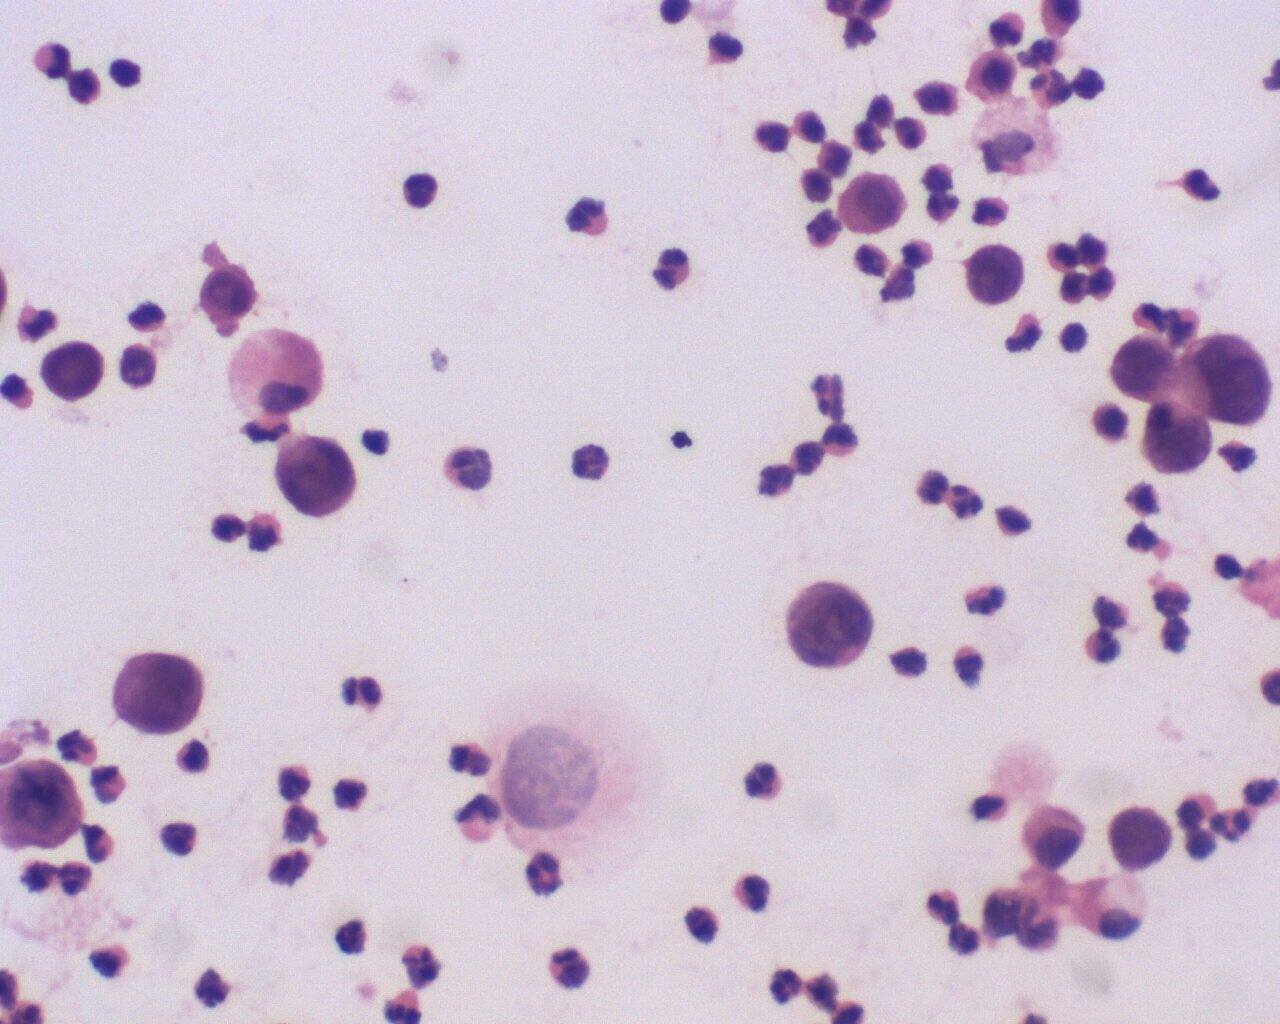ab: (110, 647, 214, 746), (775, 577, 878, 676), (1185, 332, 1271, 427), (273, 436, 365, 519), (1013, 798, 1093, 874), (1107, 802, 1180, 880), (1140, 404, 1215, 479), (1108, 334, 1187, 402), (841, 164, 910, 240), (41, 336, 109, 408), (963, 243, 1030, 310)
histo: (224, 325, 329, 420)
meso: (963, 45, 1023, 104)
neutro: (712, 872, 779, 917), (330, 911, 380, 965), (647, 243, 698, 295), (519, 850, 574, 898), (561, 196, 613, 245), (740, 757, 789, 805), (963, 577, 1010, 621), (1080, 626, 1128, 669), (946, 476, 988, 523), (920, 889, 968, 926)
